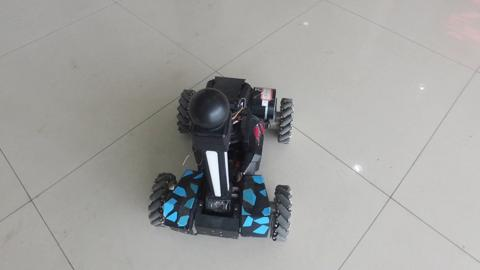chariot: (165, 55, 302, 255)
